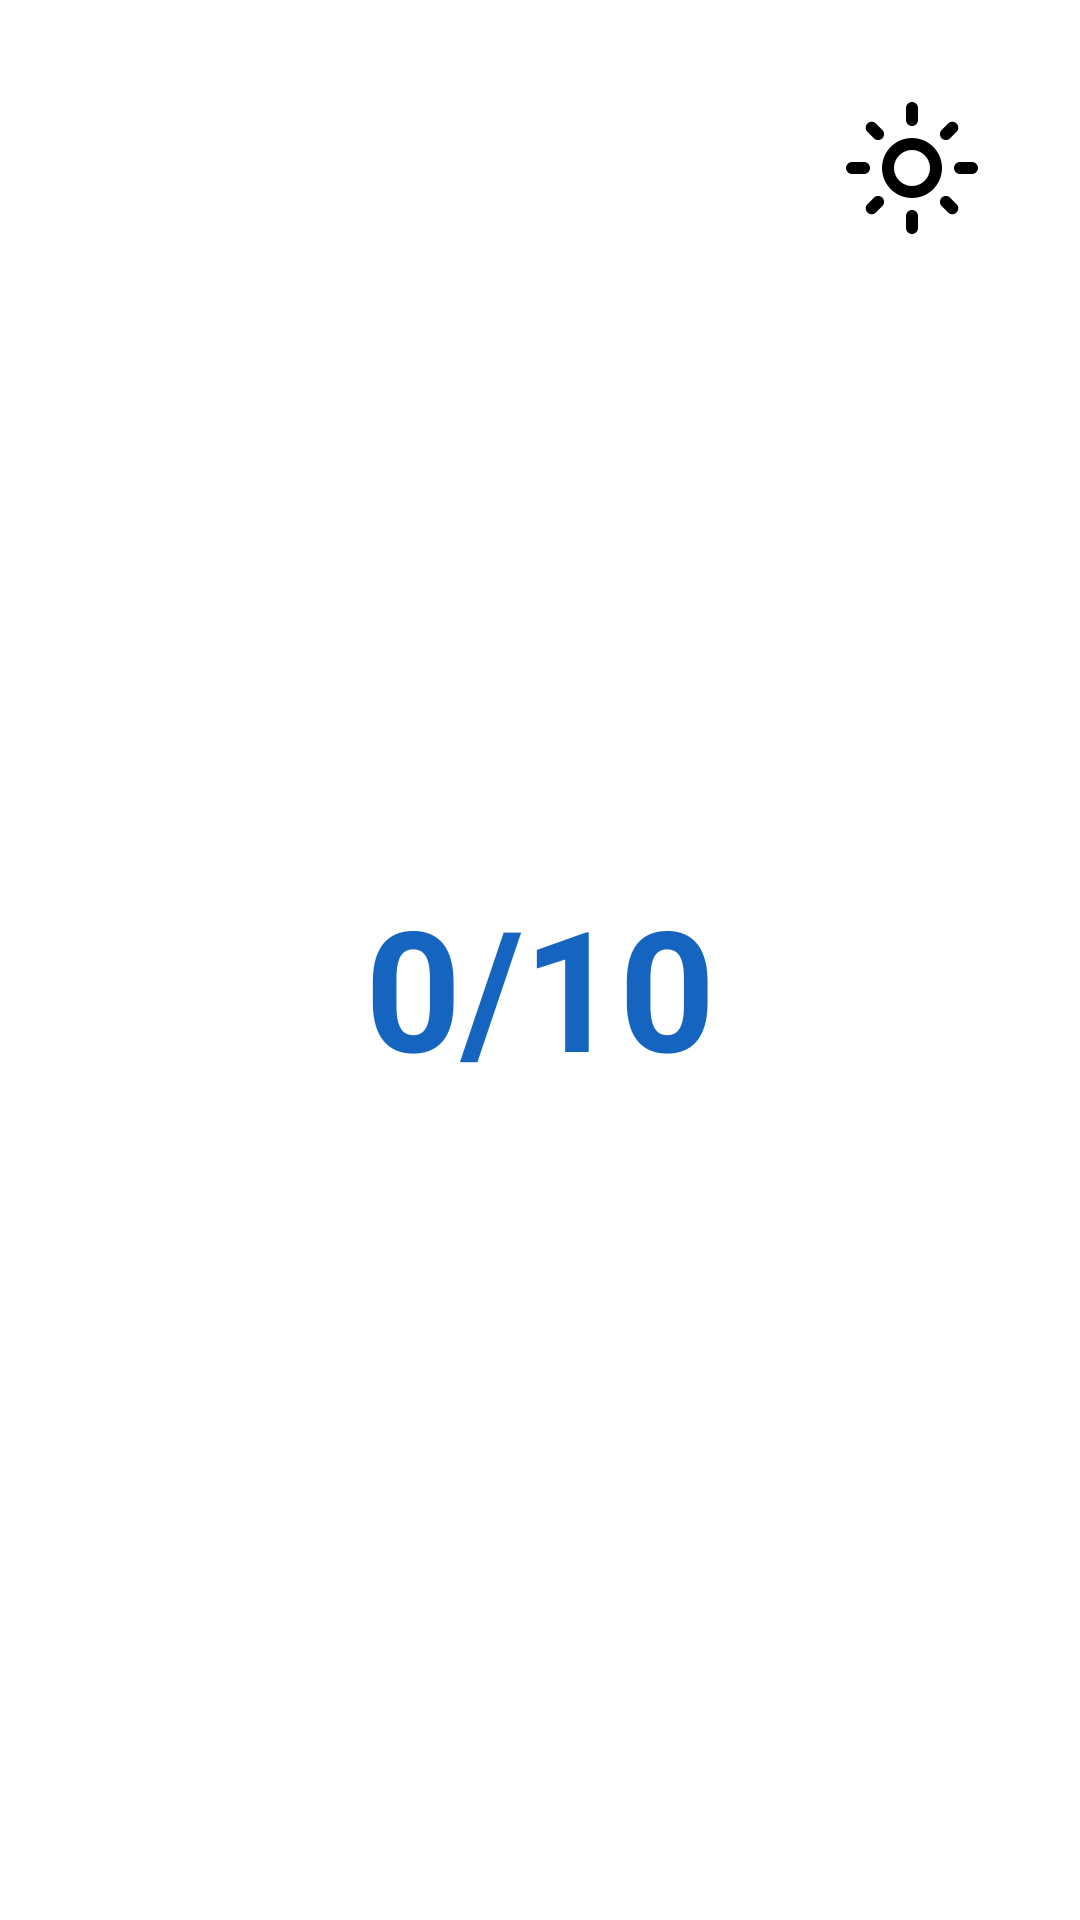

Named icons in this screenshot (1080 x 1920) and their bounding boxes, (x1=x1, y1=y1, x2=x2, y2=y2):
Toggle Theme: (x1=846, y1=102, x2=978, y2=234)
